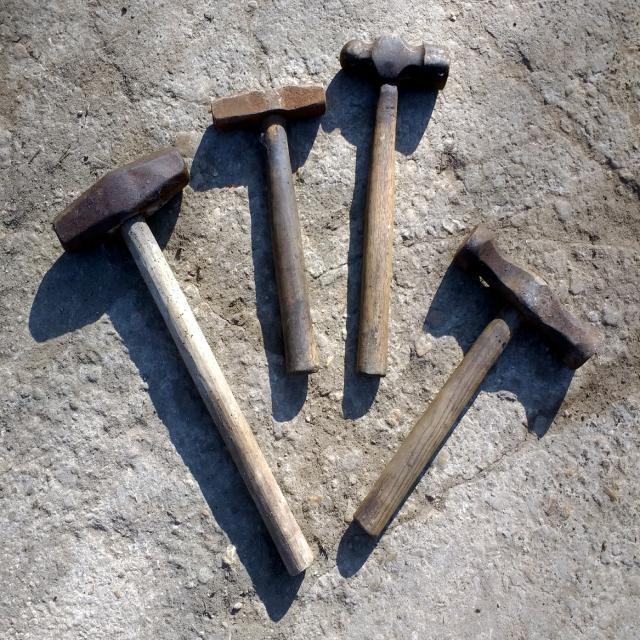hammer: (45, 142, 324, 590), (348, 213, 604, 544), (202, 62, 338, 390), (343, 12, 449, 386)
